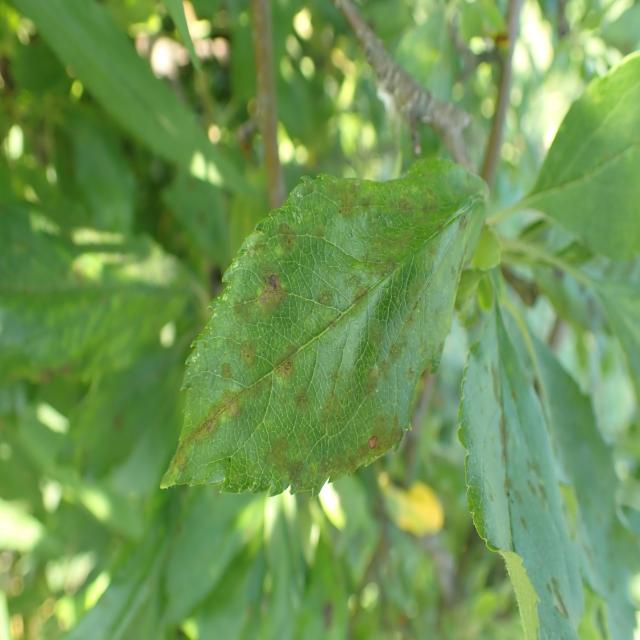scab: (184, 179, 455, 503), (456, 296, 626, 622)
